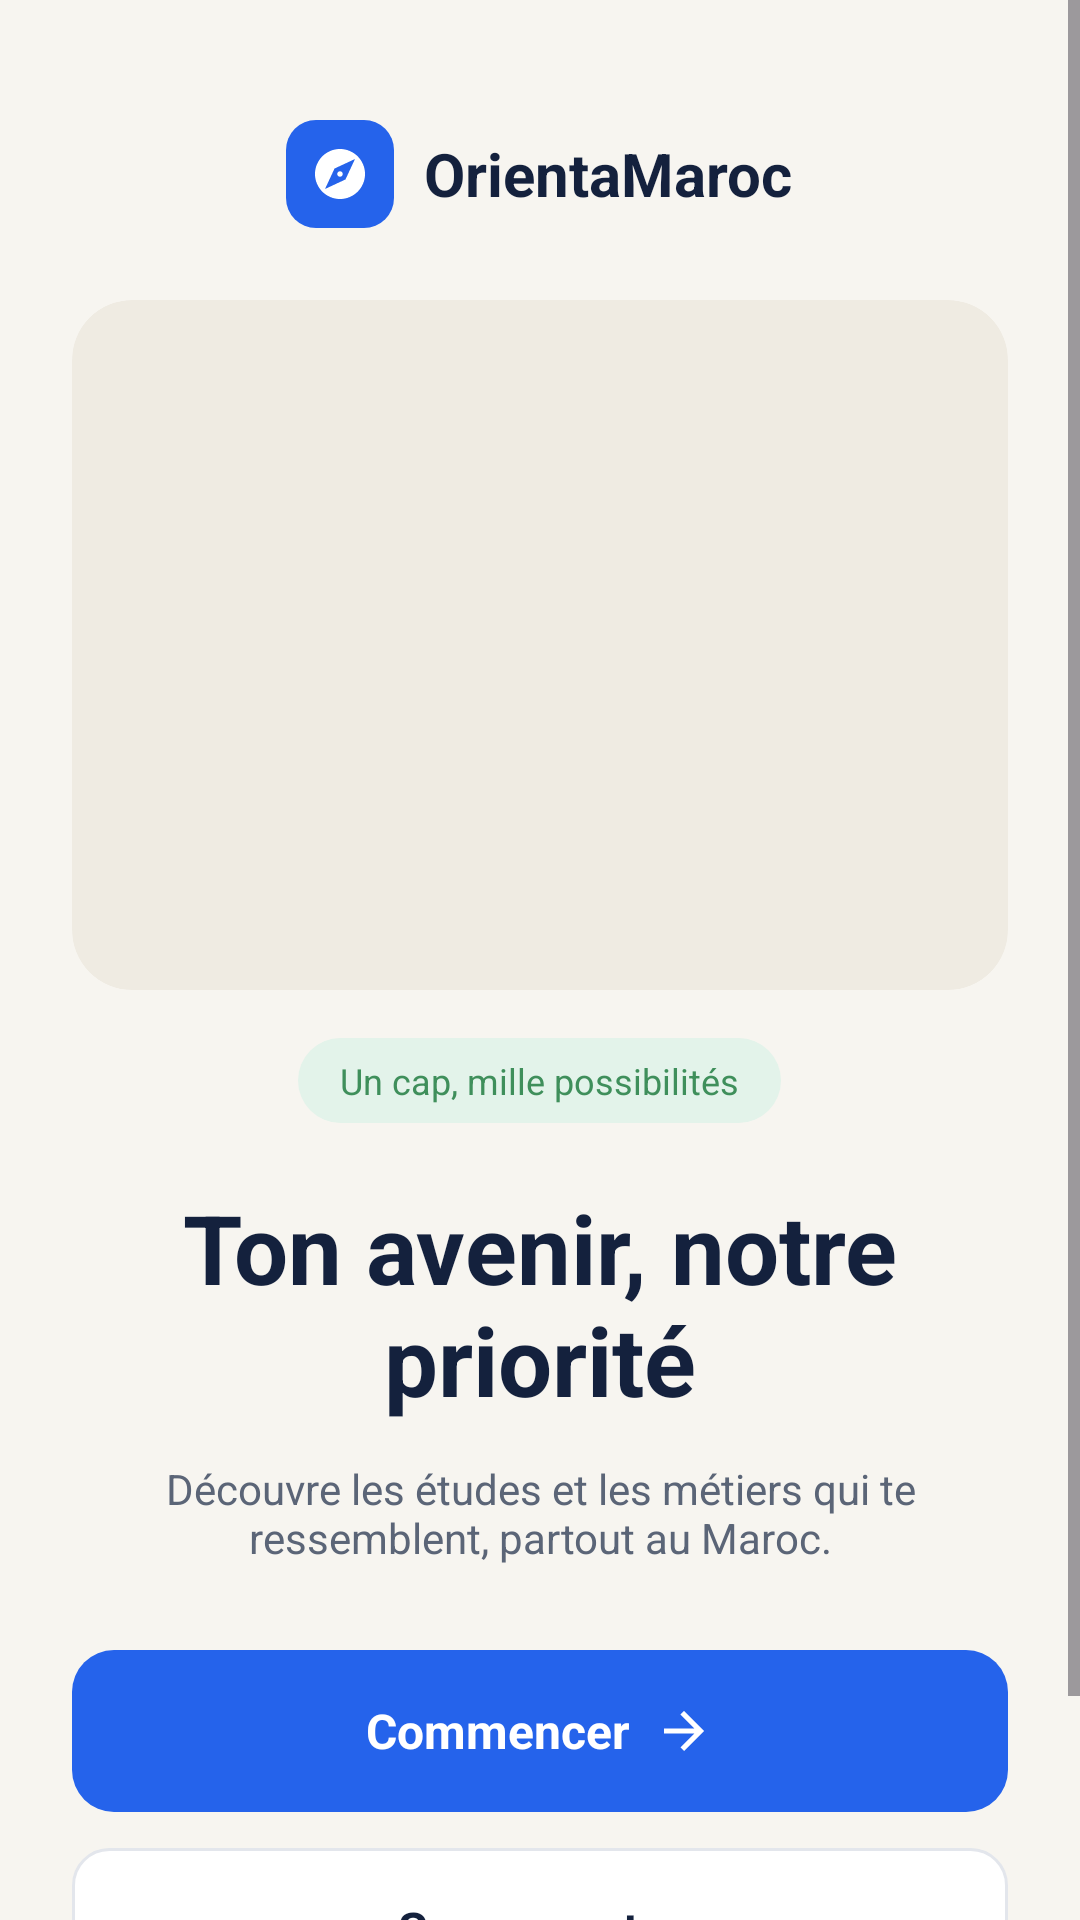

Icons on this 1080x1920 Android screen, each with its box as (x1, y1, x2, y2):
arrow: (664, 1711, 704, 1751)
